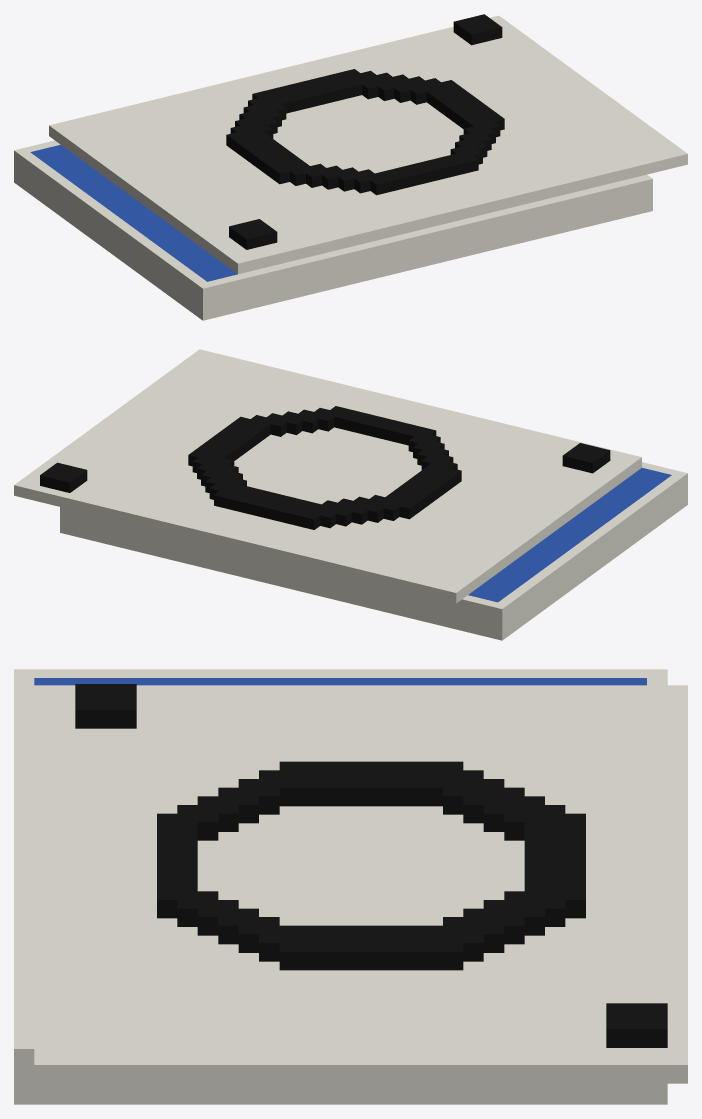
Rendered from cards_zener.glb.
The picture shows the model from 3 angles, top to bottom: view 1: azimuth 30°, elevation 25°; view 2: azimuth 150°, elevation 25°; view 3: azimuth 270°, elevation 25°; orthographic projection. The views are drawn at different scales.
Visible parts, largest first — view 1: cards_zener:compound; view 2: cards_zener:compound; view 3: cards_zener:compound.
Boxes of the visible parts, left/top/right/bottom form: cards_zener:compound: left=14, top=14, right=687, bottom=320; cards_zener:compound: left=14, top=349, right=687, bottom=640; cards_zener:compound: left=14, top=669, right=687, bottom=1104.
Size of the model in its own units: 0.096 by 0.01 by 0.066.
